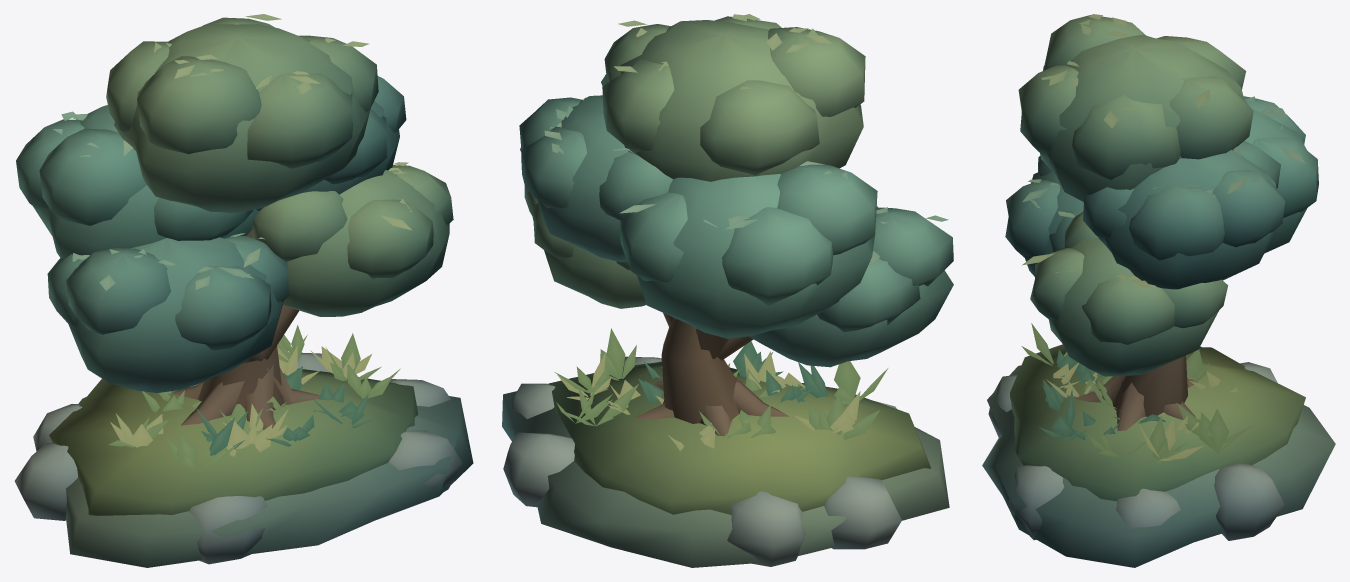
Rendered from jade_willow.glb.
3 views of the same model, side by side, from view 1: azimuth 30°, elevation 25°; view 2: azimuth 150°, elevation 25°; view 3: azimuth 270°, elevation 25° (orthographic). The views are drawn at different scales.
Parts seen in each view (by area): view 1: jade_willow; view 2: jade_willow; view 3: jade_willow.
Boxes of the visible parts, x1,y1,x2,y2 form: jade_willow: [14, 14, 473, 567]; jade_willow: [502, 14, 953, 567]; jade_willow: [982, 14, 1335, 567].
Bounding box in the file's own units: 3.82 × 4.22 × 2.99.
